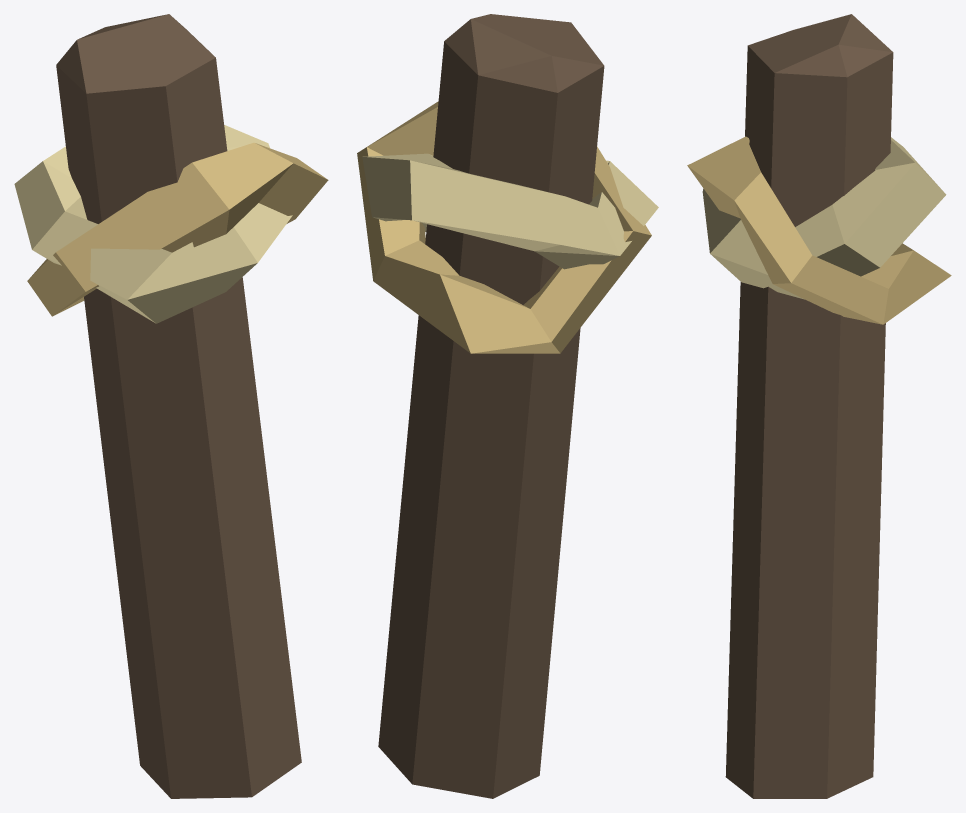
The model's file is EA03_Wooden_Pin_01a.glb.
3 views of the same model, side by side, from view 1: azimuth 30°, elevation 25°; view 2: azimuth 150°, elevation 25°; view 3: azimuth 270°, elevation 25° (orthographic). The views are drawn at different scales.
Visible parts, largest first — view 1: EA03_Wooden_Pin_01a; view 2: EA03_Wooden_Pin_01a; view 3: EA03_Wooden_Pin_01a.
Part boxes in pixels (bbox=[...]): EA03_Wooden_Pin_01a: bbox=[14, 14, 328, 798]; EA03_Wooden_Pin_01a: bbox=[357, 14, 658, 798]; EA03_Wooden_Pin_01a: bbox=[687, 14, 951, 798].
Size of the model in its own units: 0.3095 by 0.8056 by 0.2662.
1 material, 1 textured.
